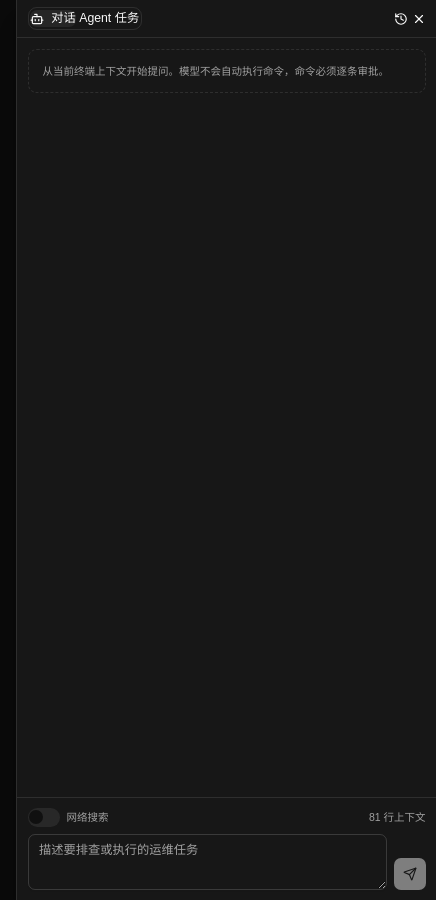
Scenario: AITerminalPanel › scrolls new AI messages into view when auto-scroll is enabled
This screenshot has width=436, height=900.
Check: the text "81 行上下文" is shown, box x1=369 y1=810 x2=426 y2=824
Step 1. Type "检查滚动" into the text box with placeholder "描述要排查或执行的运维任务" → (207, 862), box x1=28 y1=834 x2=387 y2=890
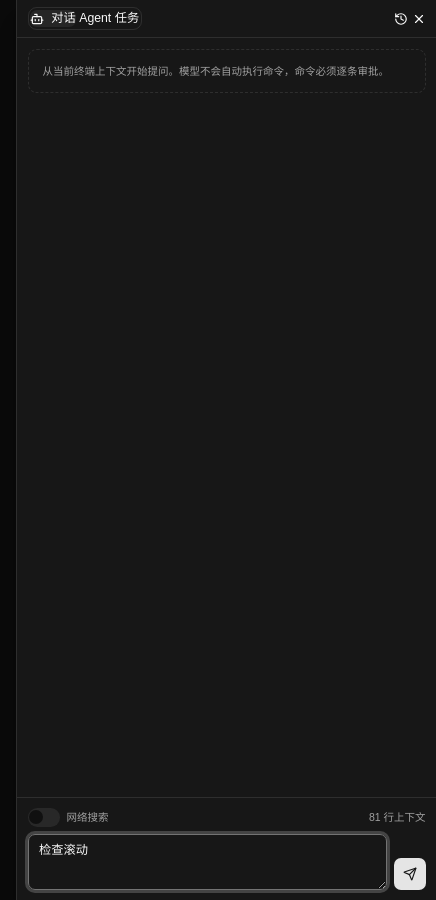
Step 2. Click the button named "发送问题" → click(410, 874), box x1=394 y1=858 x2=426 y2=890
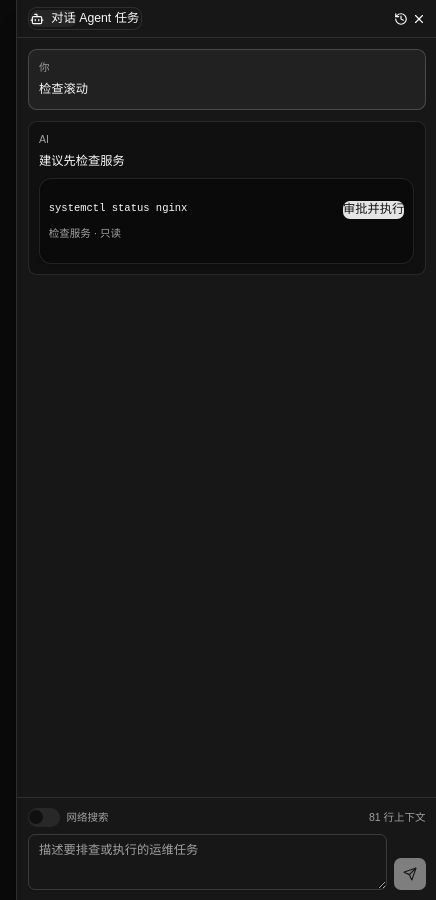
Check: the text "建议先检查服务" is shown, box x1=39 y1=154 x2=125 y2=168
